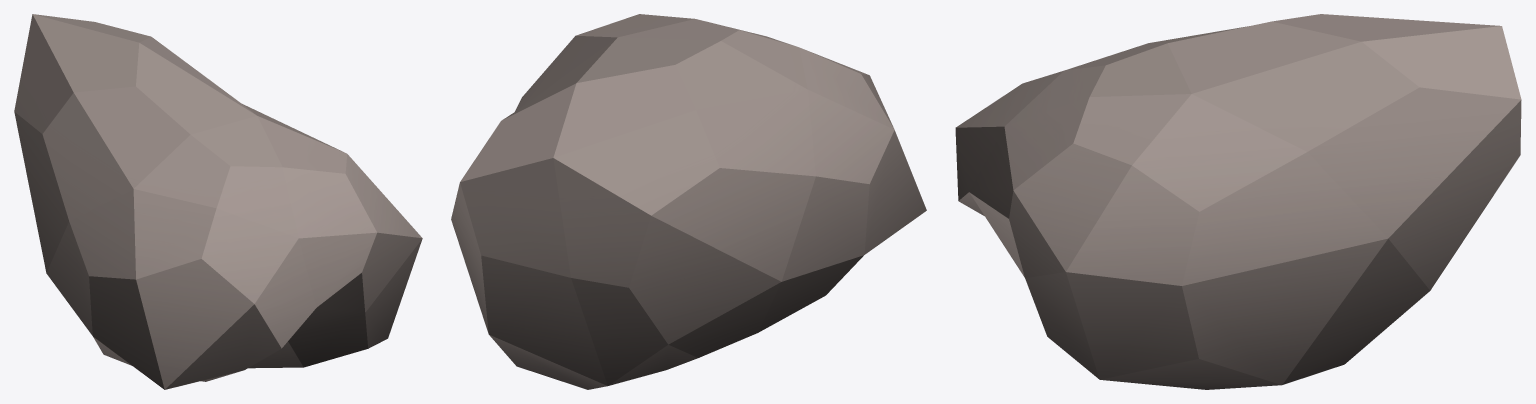
File: Asteroid_3.fbx
The picture shows the model from 3 angles, left to right: view 1: azimuth 30°, elevation 25°; view 2: azimuth 150°, elevation 25°; view 3: azimuth 270°, elevation 25°; orthographic projection. The views are drawn at different scales.
Parts seen in each view (by area): view 1: Asteroid_3; view 2: Asteroid_3; view 3: Asteroid_3.
Boxes of the visible parts, box(x1,y1,x2,y2) form: Asteroid_3: box(14, 14, 422, 389); Asteroid_3: box(451, 14, 926, 389); Asteroid_3: box(955, 14, 1521, 389).
Bounding box in the file's own units: 317 × 284 × 463.
1 material, 1 textured.
